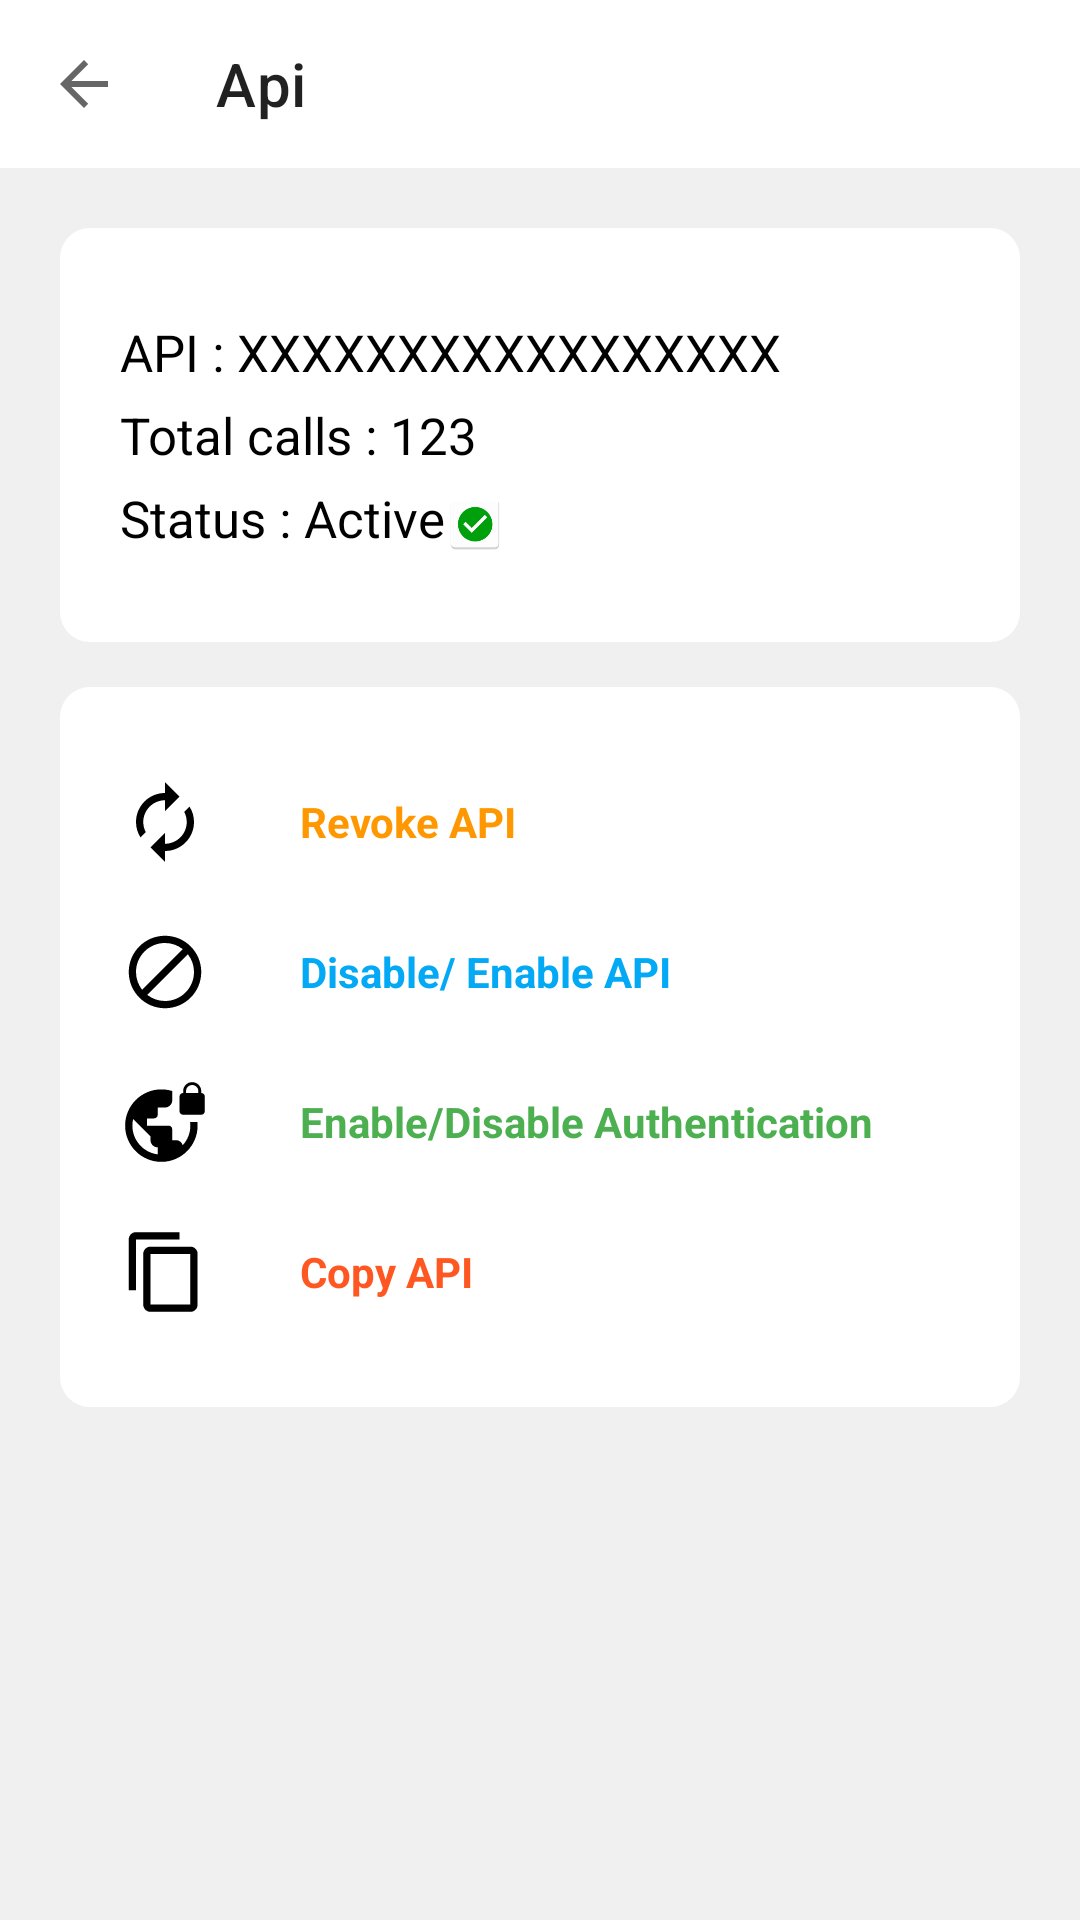

Where to tap for icons on this 1080px×1920px app screen, as (x,y):
block: (165,972)
